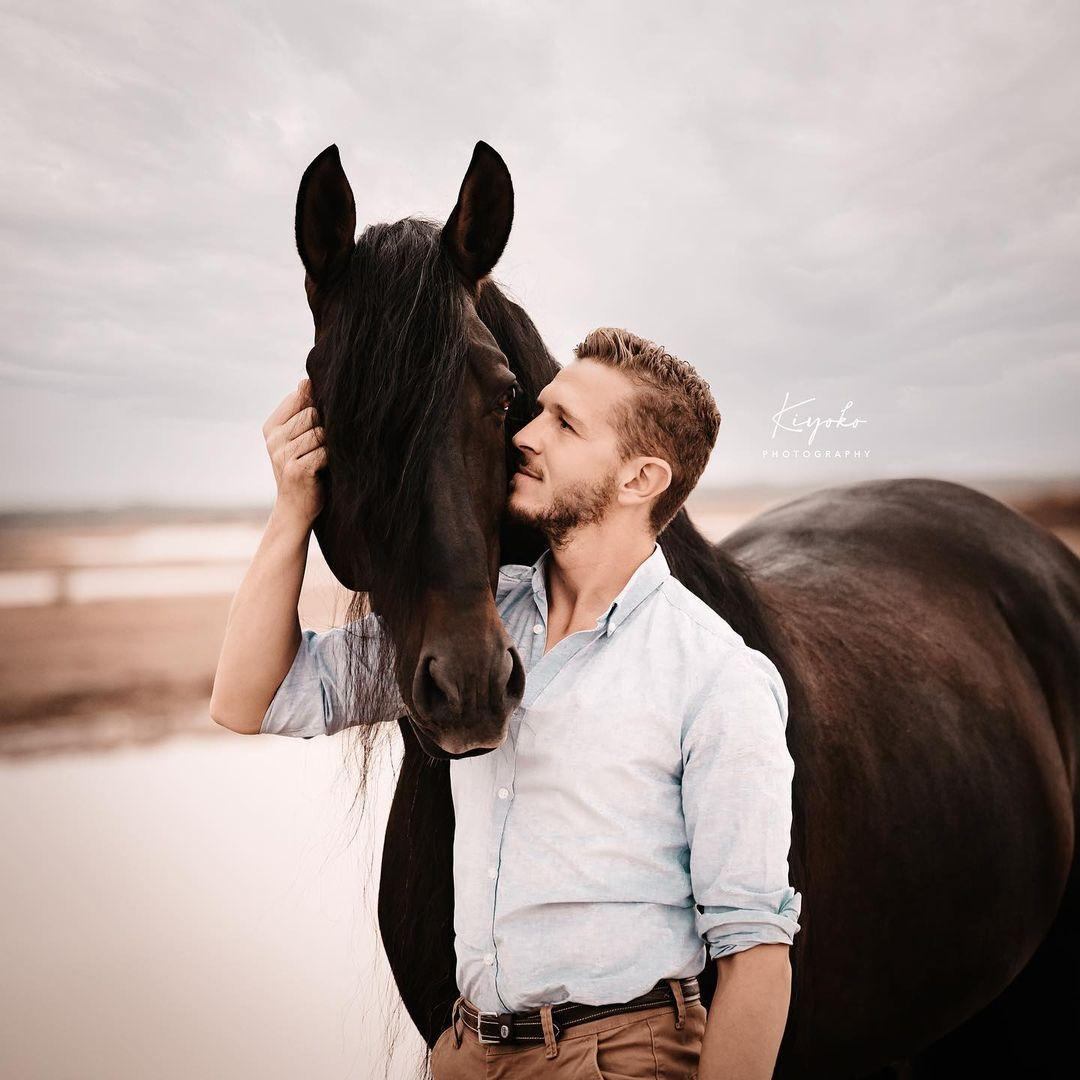horse: (293, 139, 1078, 1078)
